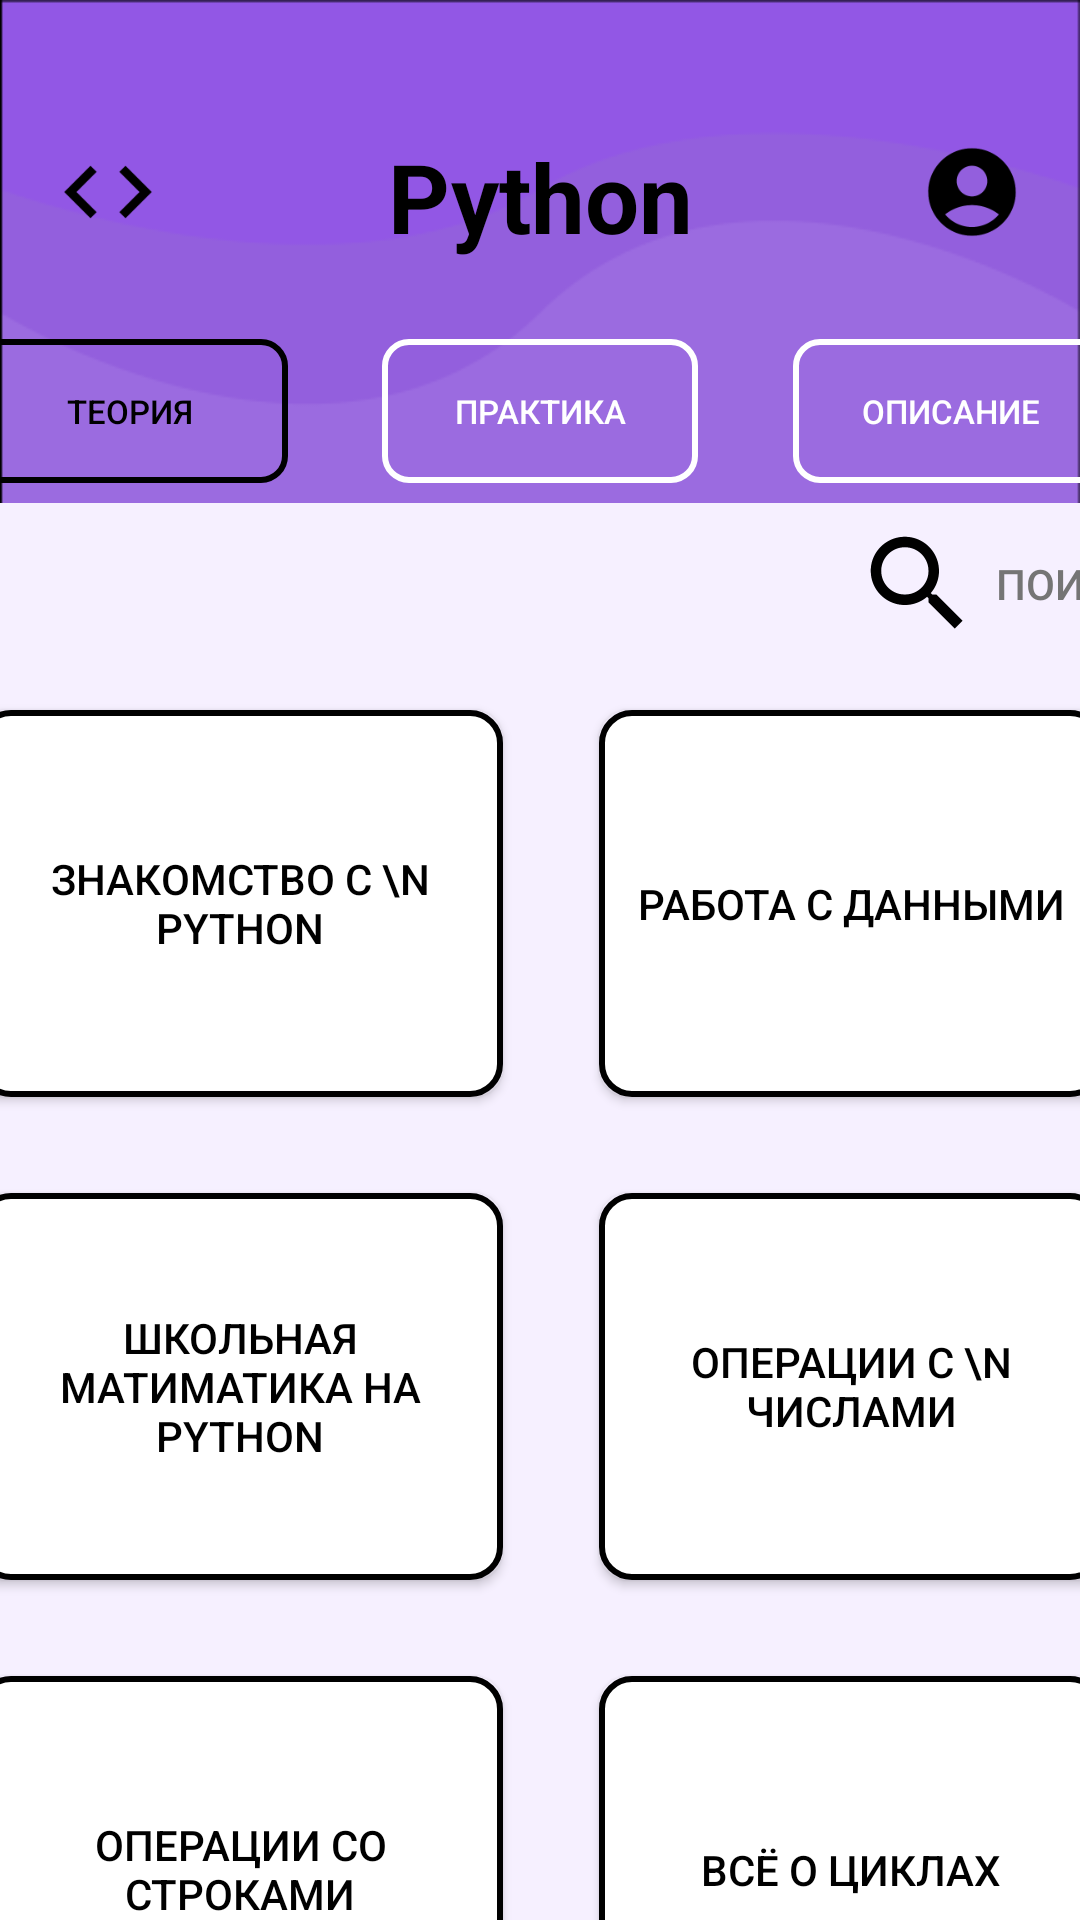

Icon click points for this 1080 x 1920 phone screenshot, format point (x, y):
code: point (108, 192)
profile: point (972, 192)
